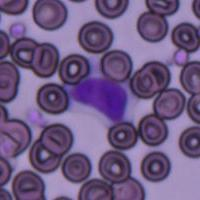M: (70, 73, 136, 127)
